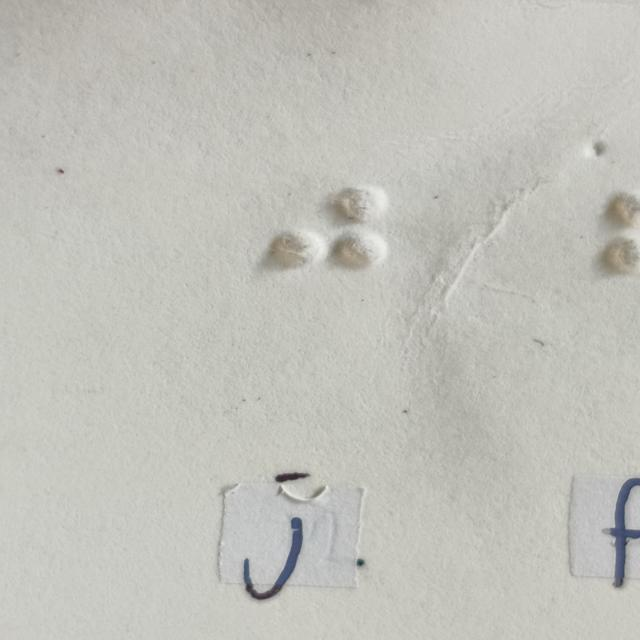j: (275, 185, 385, 338)
